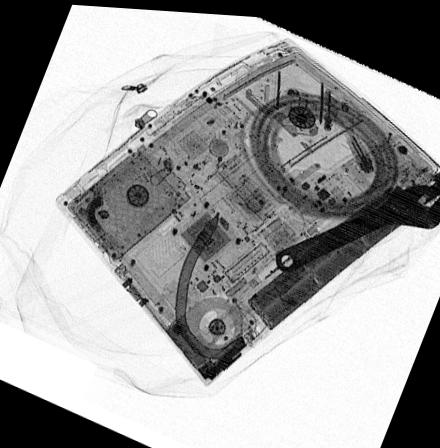Wrench: (273, 175, 440, 268)
